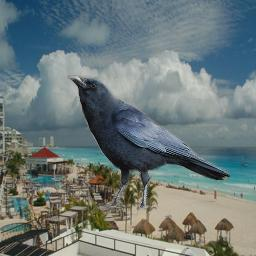Crow: (67, 75, 230, 212)
